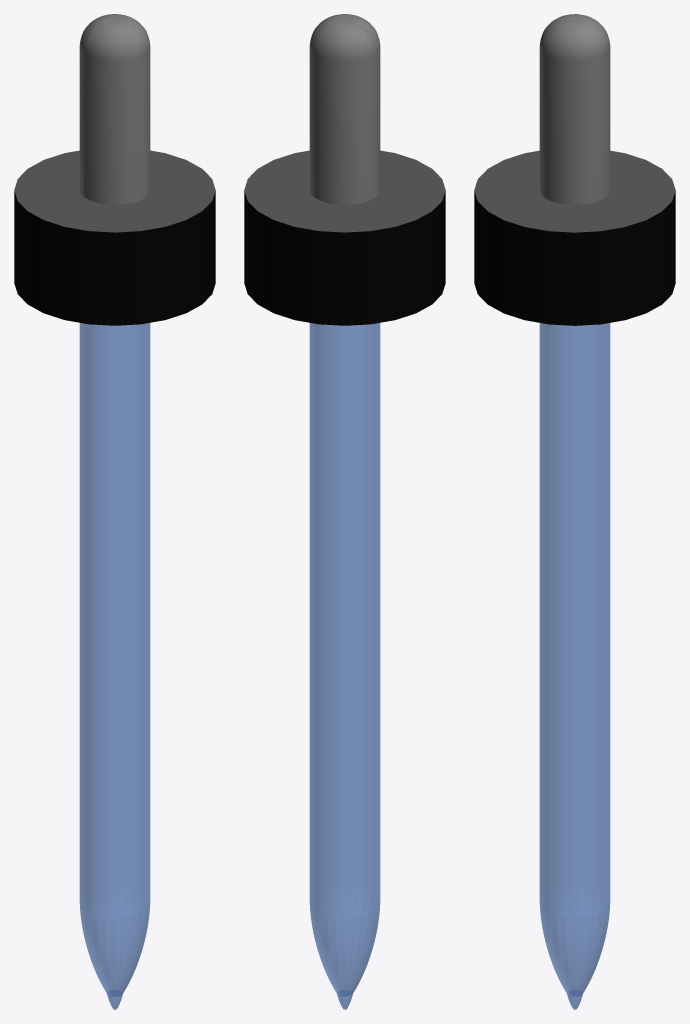
3 renders of one model, left to right at view 1: azimuth 30°, elevation 25°; view 2: azimuth 150°, elevation 25°; view 3: azimuth 270°, elevation 25°, orthographic.
Visible parts, largest first — view 1: root; view 2: root; view 3: root.
Part boxes in pixels (left/top/right/bottom): root: left=14, top=14, right=215, bottom=1009; root: left=244, top=14, right=445, bottom=1009; root: left=474, top=14, right=675, bottom=1009.
Bounding box in the file's own units: 0.2175 × 1.18 × 0.2175.
